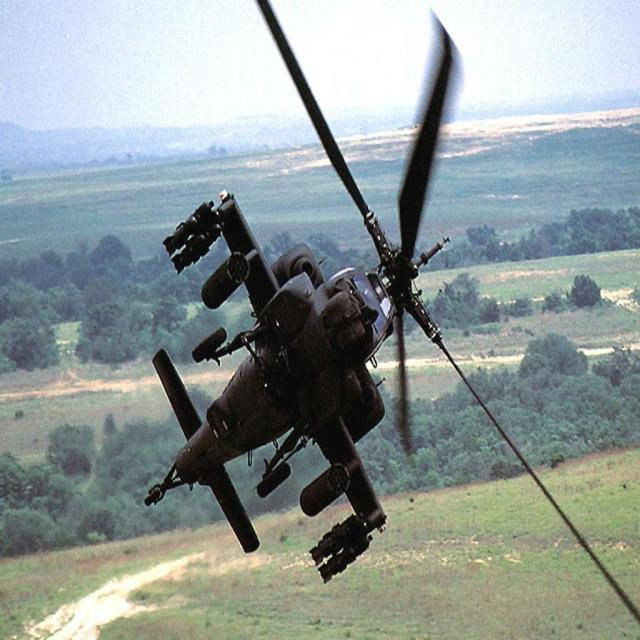MIL_HELO: (123, 0, 640, 640)
